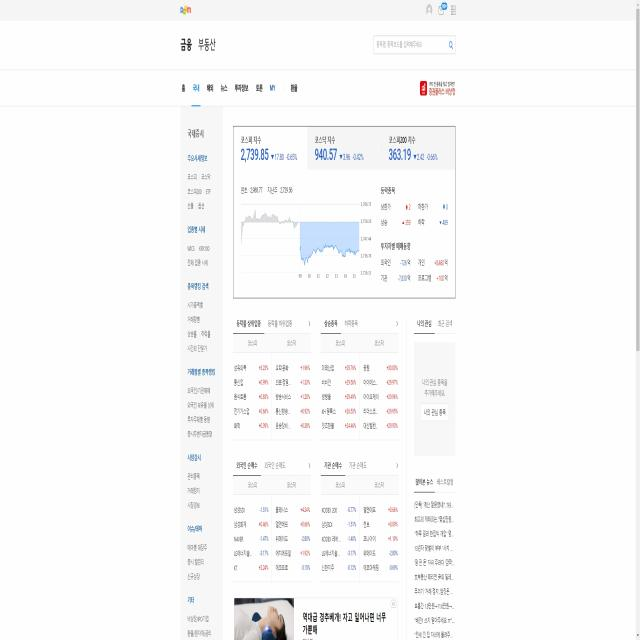menu-bar: (423, 1, 459, 20)
menu-panel: (180, 108, 222, 640)
search: (371, 33, 457, 59)
side-panel: (411, 308, 458, 640)
tab-bar: (179, 75, 301, 109)
